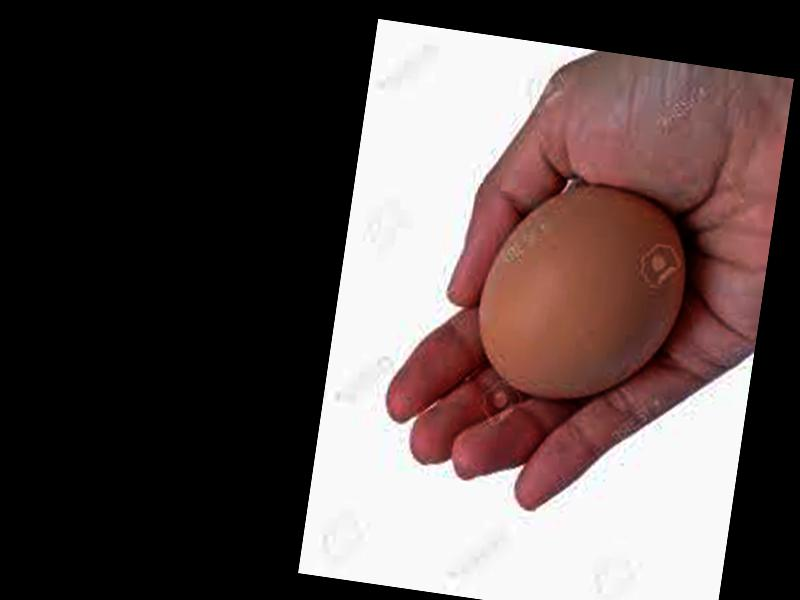Eggs: (468, 169, 695, 415)
